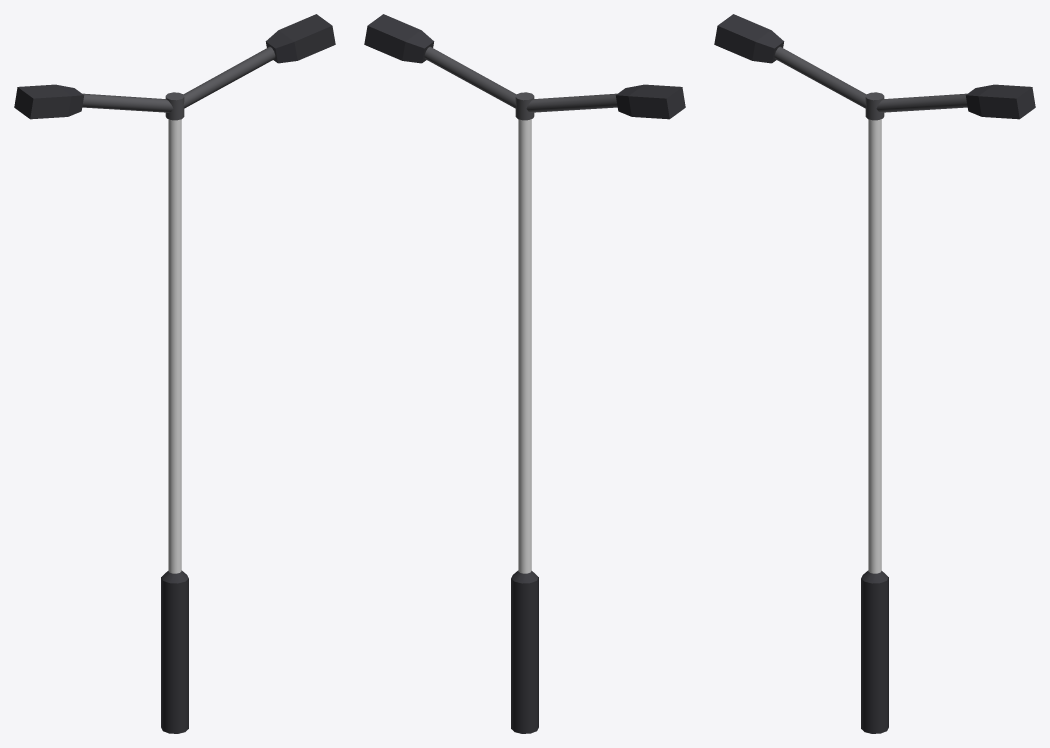
The model's file is StreetLamp1_b_LP_LOD0.FBX.
3 views of the same model, side by side, from view 1: azimuth 30°, elevation 25°; view 2: azimuth 150°, elevation 25°; view 3: azimuth 330°, elevation 25° (orthographic).
Visible parts, largest first — view 1: StreetLamp1_b_LP_LOD0; view 2: StreetLamp1_b_LP_LOD0; view 3: StreetLamp1_b_LP_LOD0.
Part boxes in pixels (x1,y1,x2,y2): StreetLamp1_b_LP_LOD0: (14, 14, 335, 733); StreetLamp1_b_LP_LOD0: (364, 14, 685, 733); StreetLamp1_b_LP_LOD0: (714, 14, 1035, 733).
Bounding box in the file's own units: 4.82 × 10.13 × 0.4358.
